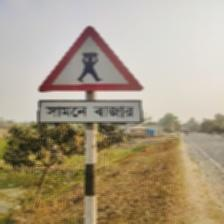Market-in-front: (37, 25, 146, 126)
